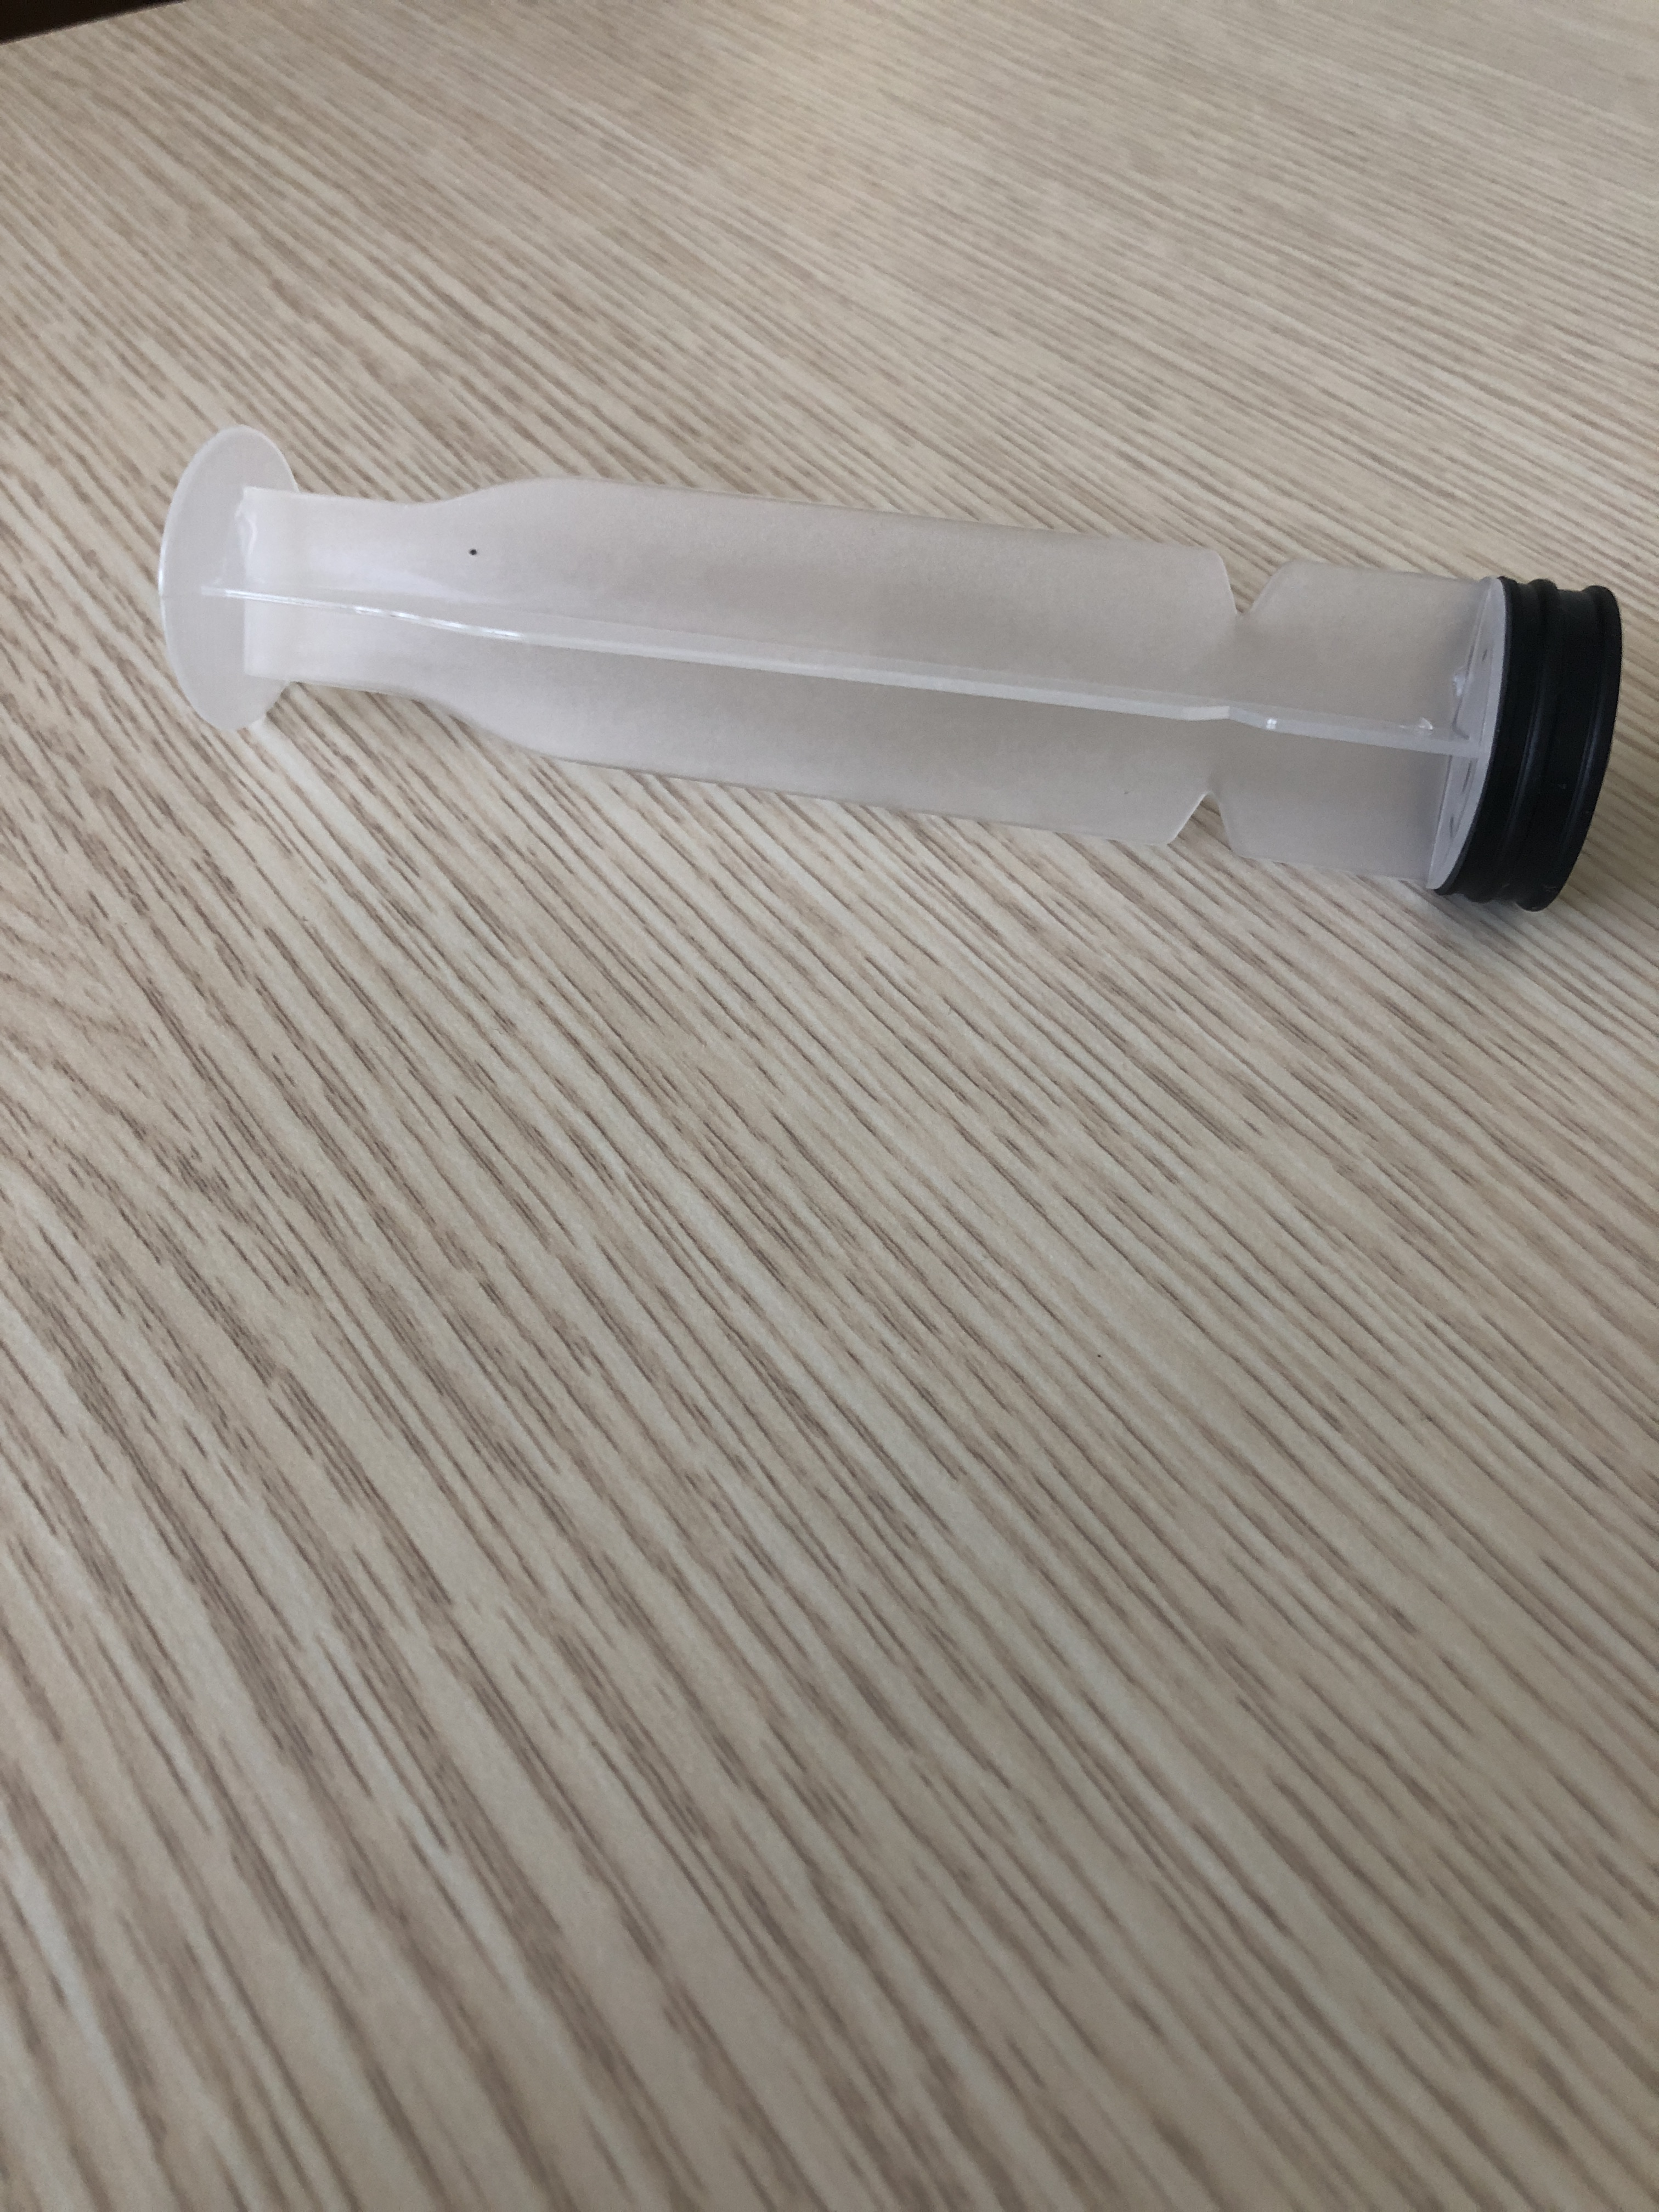plunger: (139, 416, 1629, 920)
